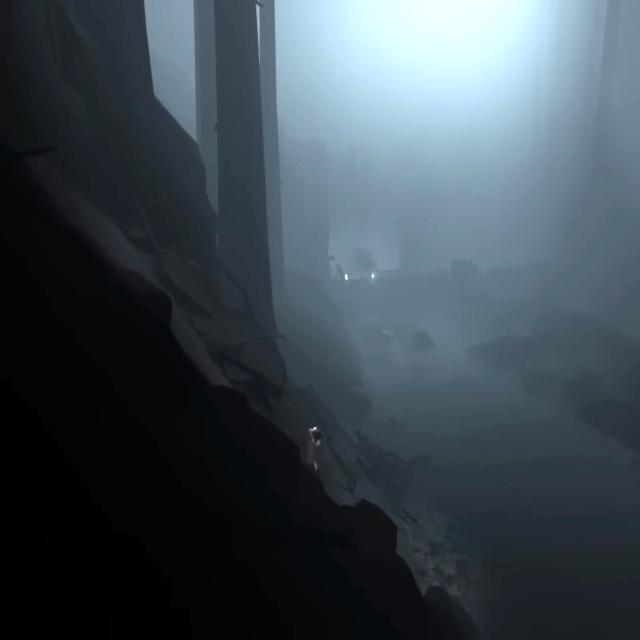boy: (308, 427, 322, 474)
